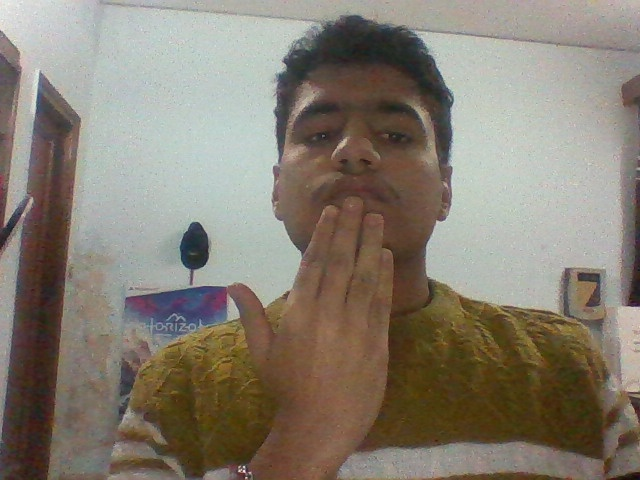ThankYou: (234, 197, 402, 472)
